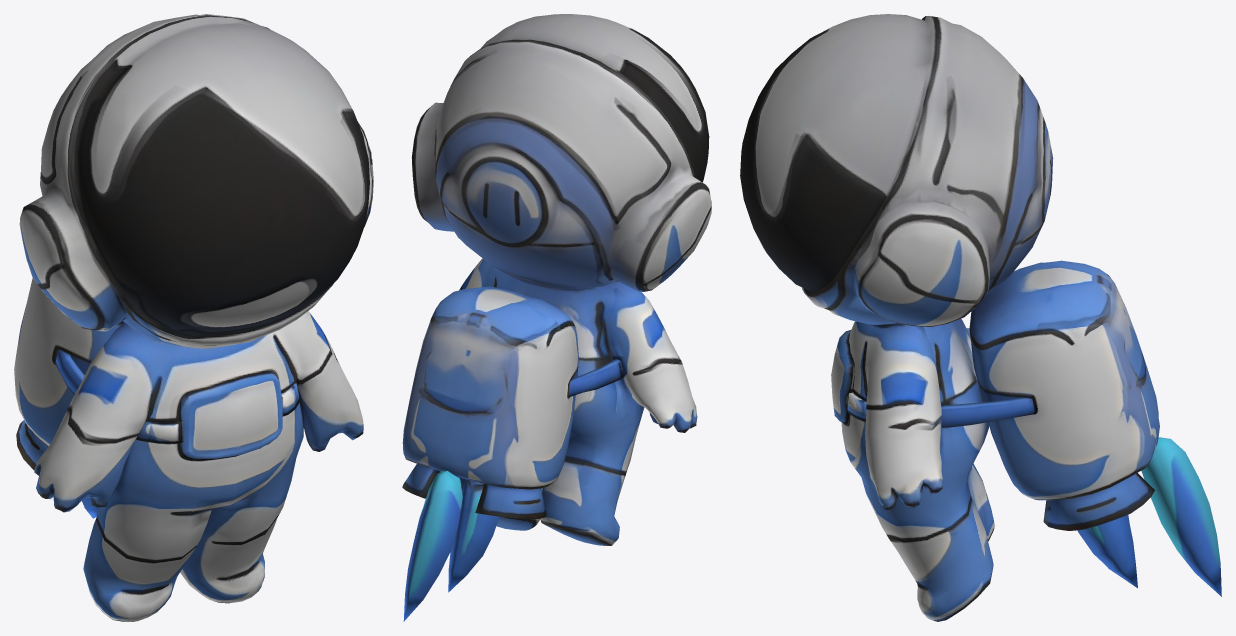
The model's file is Astronauta v1.glb.
3 renders of one model, left to right at view 1: azimuth 30°, elevation 25°; view 2: azimuth 150°, elevation 25°; view 3: azimuth 270°, elevation 25°, orthographic. The views are drawn at different scales.
Visible parts, largest first — view 1: tripo_node_f7815c02-2117-46d6-b6ab-d37773433d09; view 2: tripo_node_f7815c02-2117-46d6-b6ab-d37773433d09; view 3: tripo_node_f7815c02-2117-46d6-b6ab-d37773433d09.
Part boxes in pixels (x1,y1,x2,y2): tripo_node_f7815c02-2117-46d6-b6ab-d37773433d09: [14, 14, 373, 621]; tripo_node_f7815c02-2117-46d6-b6ab-d37773433d09: [402, 14, 711, 621]; tripo_node_f7815c02-2117-46d6-b6ab-d37773433d09: [740, 14, 1221, 621].
Bounding box in the file's own units: 0.5645 × 0.998 × 0.7754.
1 material, 1 textured.
